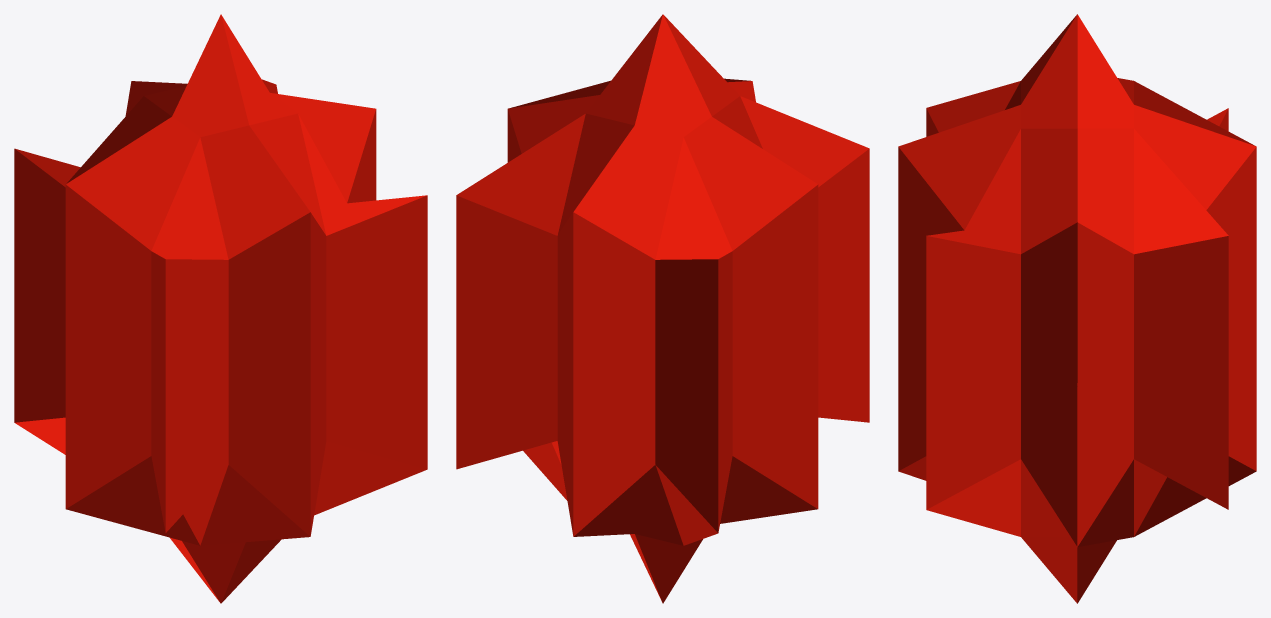
Rendered from Mini Energy Core.fbx.
3 renders of one model, left to right at view 1: azimuth 30°, elevation 25°; view 2: azimuth 150°, elevation 25°; view 3: azimuth 270°, elevation 25°, orthographic.
Parts seen in each view (by area): view 1: Power Gem; view 2: Power Gem; view 3: Power Gem.
Part boxes in pixels (box(x1,y1,x2,y2)): Power Gem: box(14, 14, 427, 603); Power Gem: box(456, 14, 869, 603); Power Gem: box(898, 14, 1256, 603).
Bounding box in the file's own units: 6.89 × 12.52 × 6.89.
